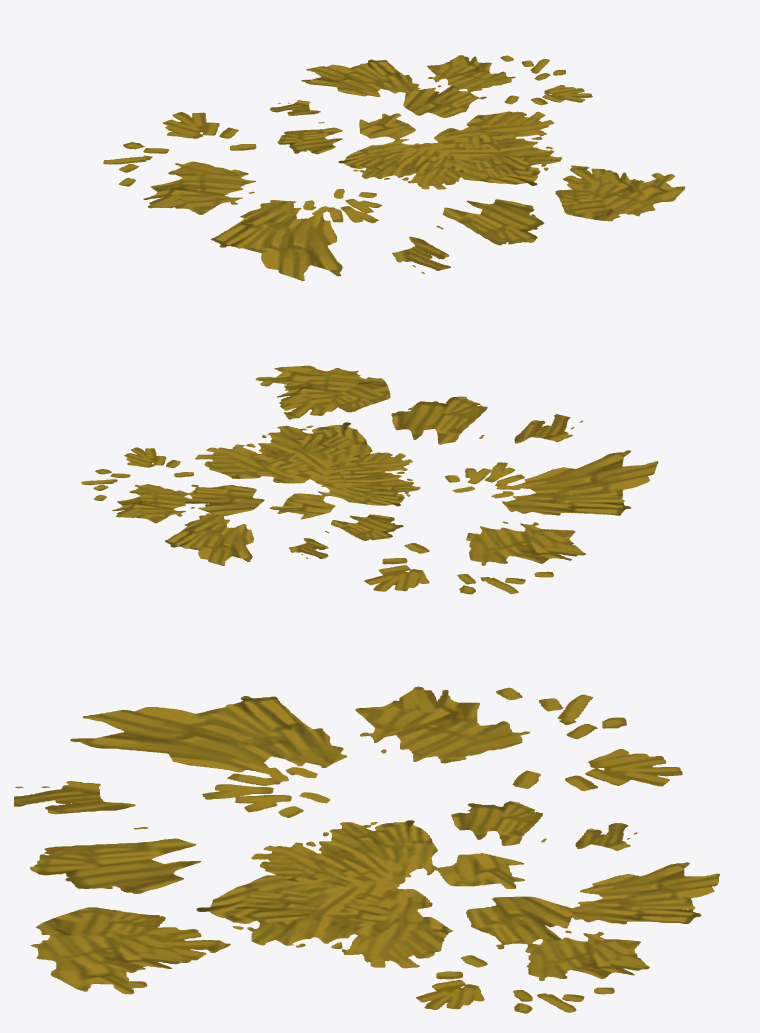
Rendered from FloorProps_HayClump2_Tavern_AB.fbx.
3 renders of one model, top to bottom at view 1: azimuth 30°, elevation 25°; view 2: azimuth 150°, elevation 25°; view 3: azimuth 270°, elevation 25°, orthographic. The views are drawn at different scales.
Visible parts, largest first — view 1: pPlane11; view 2: pPlane11; view 3: pPlane11.
Boxes of the visible parts, bbox=[...] form: pPlane11: bbox=[103, 55, 685, 280]; pPlane11: bbox=[81, 365, 658, 594]; pPlane11: bbox=[14, 686, 719, 1013].
Bounding box in the file's own units: 224 × 0.6196 × 199.
